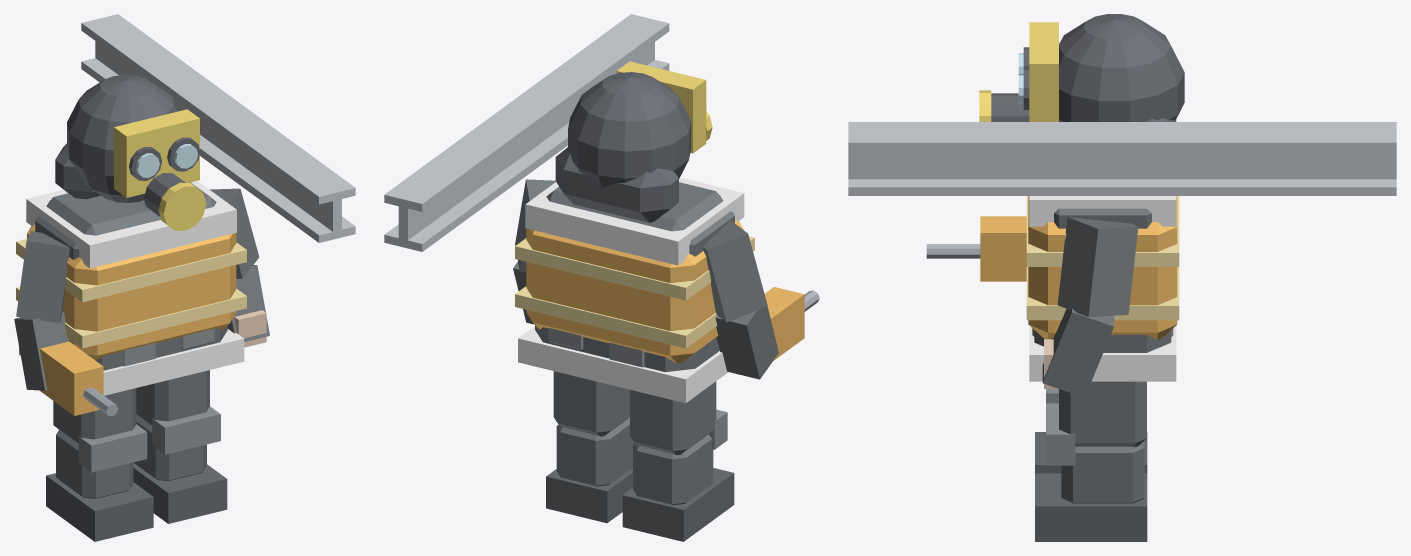
File: builder@toxico.glb
3 views of the same model, side by side, from view 1: azimuth 30°, elevation 25°; view 2: azimuth 150°, elevation 25°; view 3: azimuth 270°, elevation 25° (orthographic). The views are drawn at different scales.
Visible parts, largest first — view 1: main, shinl, shinr, legr, legl; view 2: main, shinl, shinr, legl, legr; view 3: main, shinr, legr, shinl.
Part boxes in pixels (x1=…): main: x1=14, y1=14, x2=355, y2=416; shinl: x1=46, y1=424, x2=153, y2=541; shinr: x1=133, y1=406, x2=227, y2=523; legr: x1=136, y1=370, x2=209, y2=425; legl: x1=53, y1=388, x2=136, y2=443; main: x1=384, y1=14, x2=819, y2=403; shinl: x1=622, y1=409, x2=734, y2=541; shinr: x1=546, y1=417, x2=634, y2=523; legl: x1=630, y1=381, x2=716, y2=455; legr: x1=553, y1=371, x2=629, y2=436; main: x1=848, y1=14, x2=1396, y2=397; shinr: x1=1035, y1=403, x2=1147, y2=541; legr: x1=1059, y1=381, x2=1146, y2=447; shinl: x1=1035, y1=389, x2=1147, y2=473.
Bounding box in the file's own units: 0.331 × 0.5462 × 0.56.
